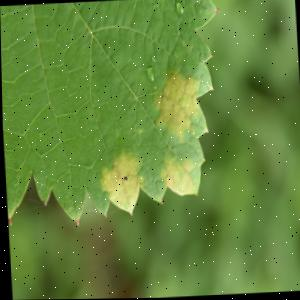Folha: (0, 0, 229, 229)
Fungo: (149, 68, 204, 143), (96, 150, 141, 217), (156, 155, 198, 200), (145, 66, 153, 82), (175, 2, 182, 15), (41, 199, 47, 207), (6, 217, 11, 225), (73, 219, 77, 227), (151, 56, 155, 64), (121, 176, 125, 182), (215, 8, 219, 14)
